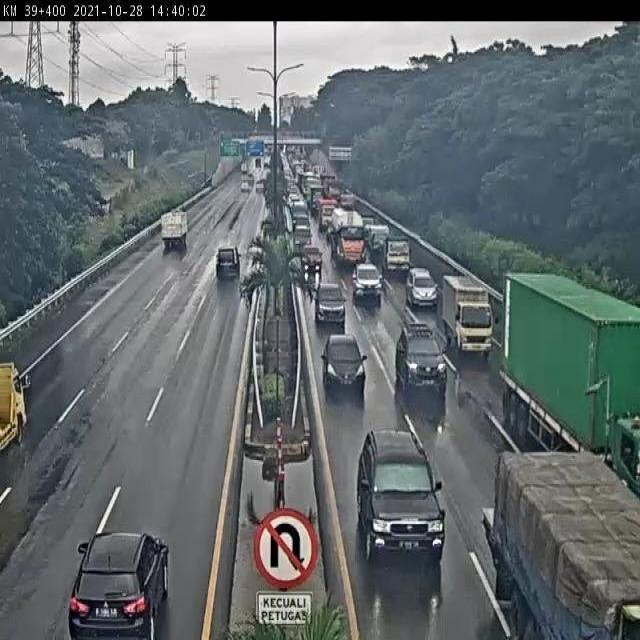big truck: (502, 269, 640, 483), (328, 205, 367, 271)
car: (354, 426, 447, 566), (67, 529, 171, 639), (394, 322, 449, 394), (320, 334, 369, 394), (310, 275, 345, 320), (407, 267, 439, 309), (351, 262, 384, 302), (214, 245, 241, 278), (298, 239, 322, 269)
small truck: (441, 276, 495, 359), (157, 208, 189, 251), (378, 228, 409, 268)
